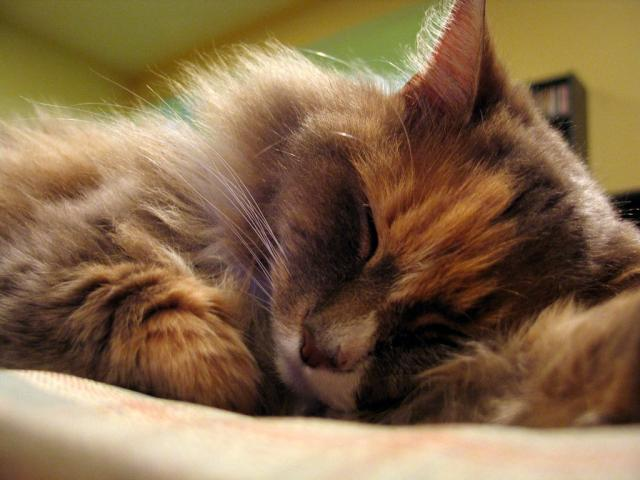Cat: (0, 0, 639, 426)
